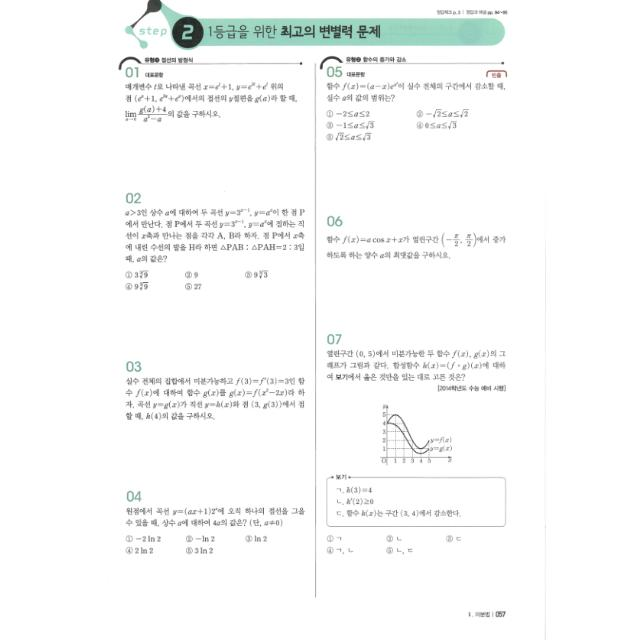multiple: (319, 327, 516, 561), (118, 185, 310, 301), (316, 51, 510, 147), (120, 481, 308, 562)
short: (114, 49, 308, 129), (118, 353, 310, 431), (319, 207, 511, 271)
